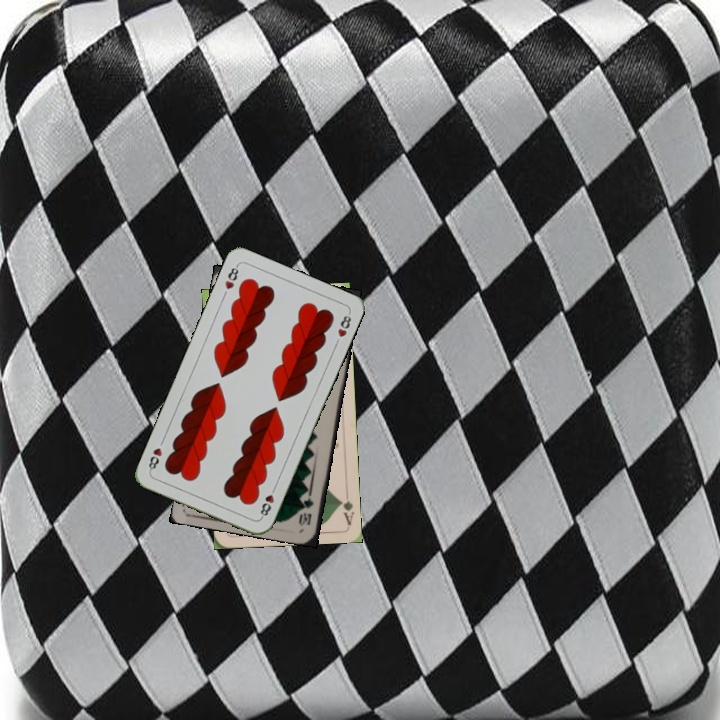G10: (295, 488, 316, 528)
GA: (336, 496, 356, 526)
H8: (256, 482, 279, 521), (221, 261, 241, 292)
